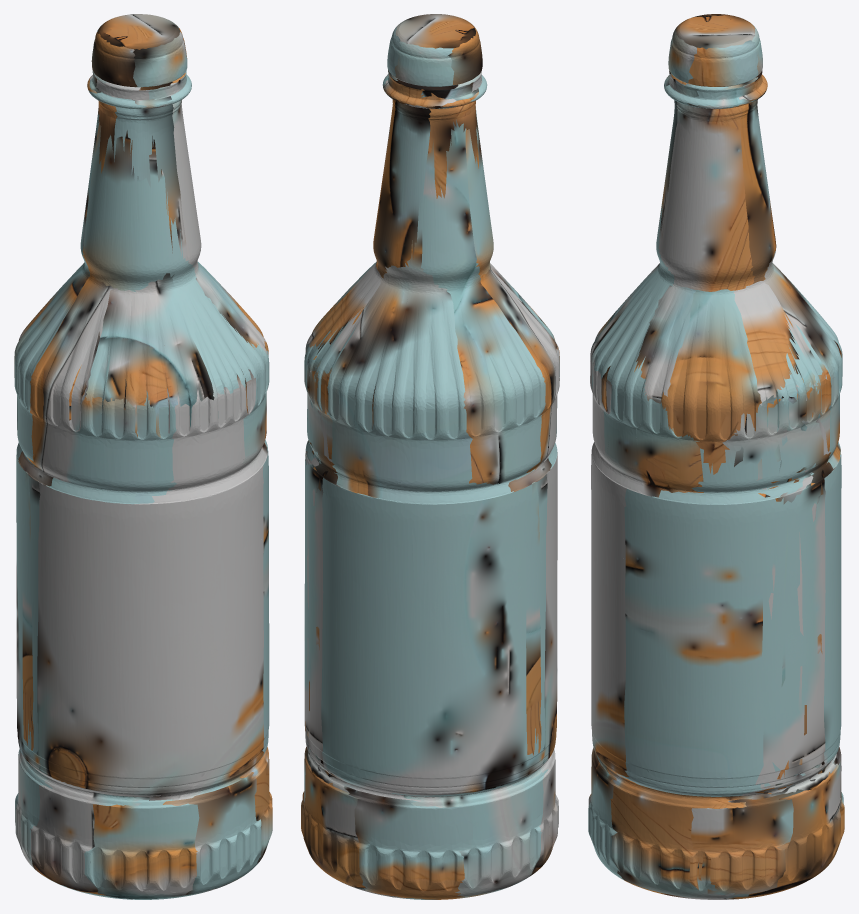
File: caramel.obj
The picture shows the model from 3 angles, left to right: view 1: azimuth 30°, elevation 25°; view 2: azimuth 150°, elevation 25°; view 3: azimuth 270°, elevation 25°; orthographic projection.
Visible parts, largest first — view 1: material; view 2: material; view 3: material.
Boxes of the visible parts, left/top/right/bottom form: material: left=14, top=14, right=272, bottom=899; material: left=301, top=14, right=559, bottom=899; material: left=588, top=14, right=844, bottom=899.
Bounding box in the file's own units: 0.3375 × 1.18 × 0.3322.
